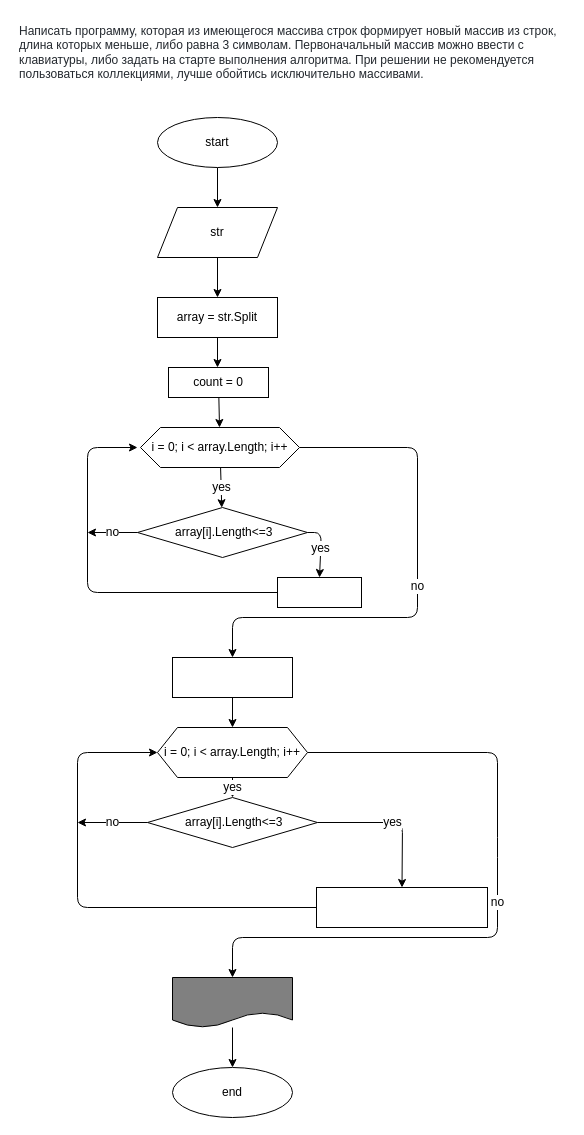
Image size: 584x1135. Some labels were removed from this diagram. The box of each missing label's shape, as (x1, y1, x2, y2) in pixels:
count++: (276, 576, 362, 608)
FinalArray count = 0: (172, 656, 292, 698)
FinalArray[count] = array[i] count ++: (316, 886, 488, 928)
print FinalArray: (172, 976, 292, 1028)
